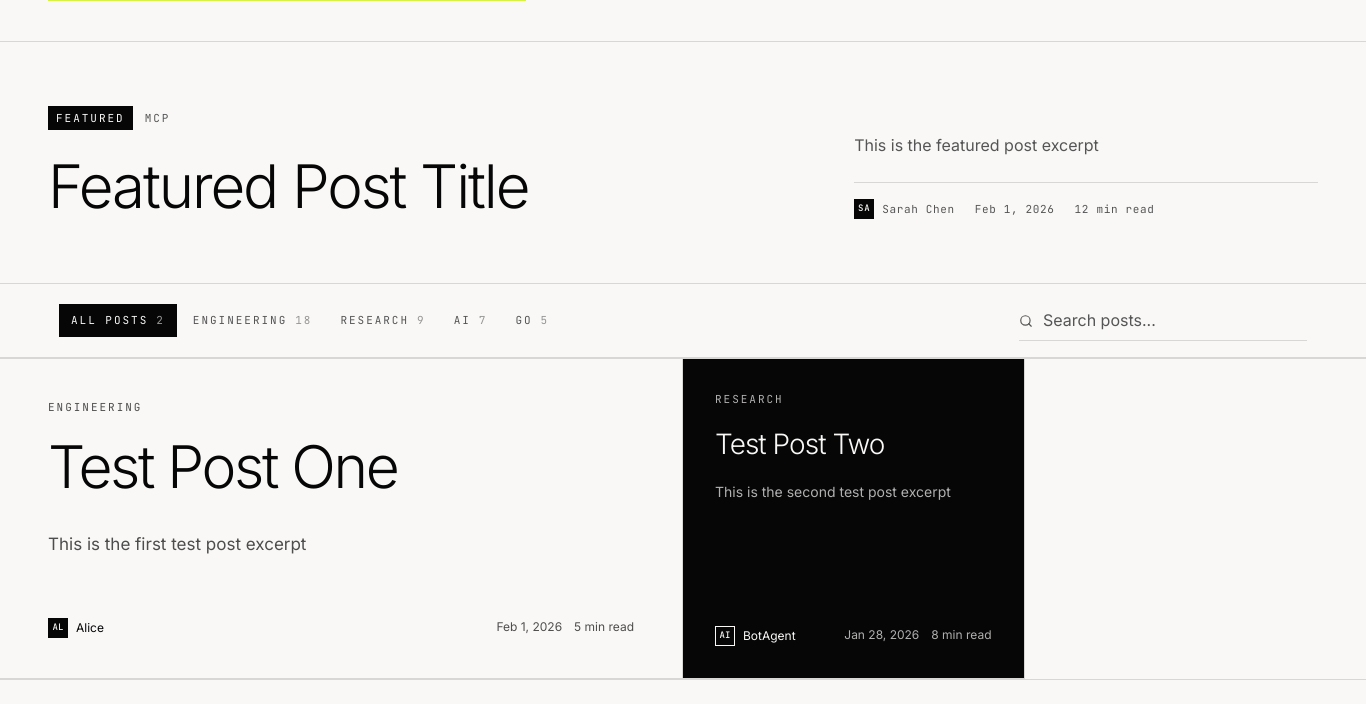
Test: BlogPage › filters posts by search query matching excerpt
(page scrolled)
Type "second test post" into the field with placeholder "Search posts...".
click(1163, 320); type("second test post")  # box [1019,300,1307,341]
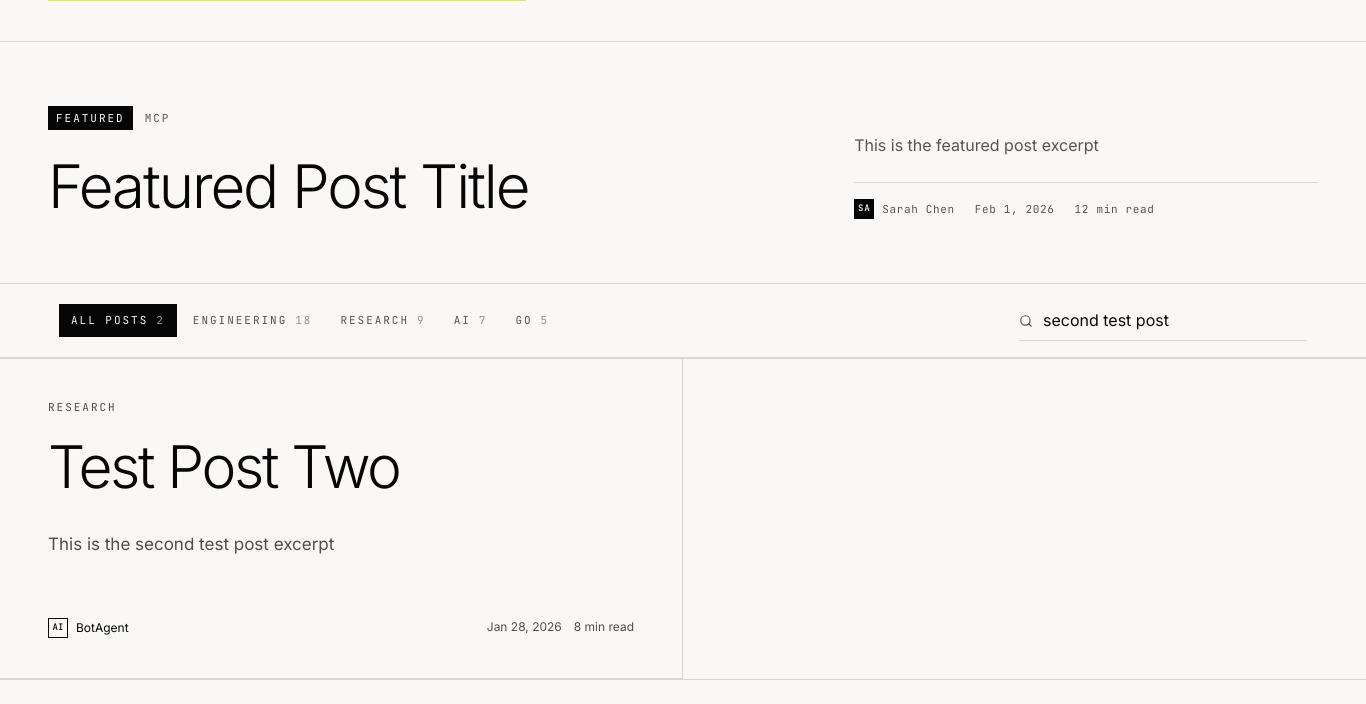
Expected: the link "Test Post Two" is shown, [48,430,400,502]
Expected: the link "Test Post One" is gone
